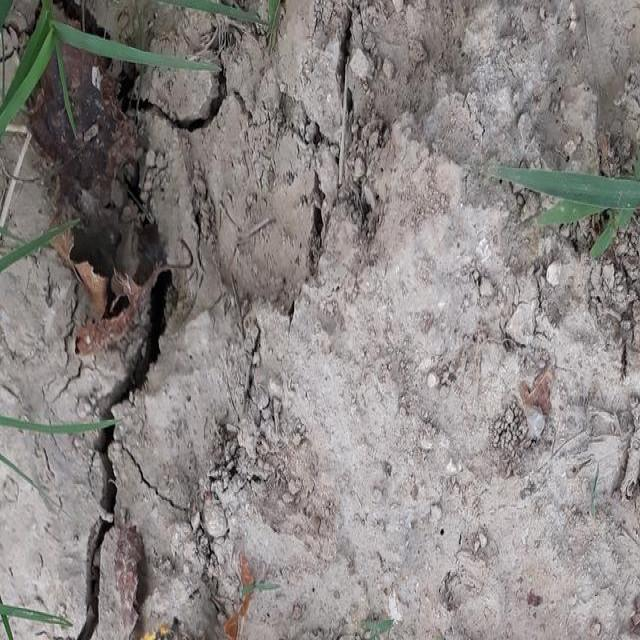weed: (2, 1, 266, 86), (479, 160, 640, 256), (3, 218, 80, 266), (0, 420, 136, 439), (2, 604, 71, 640)
